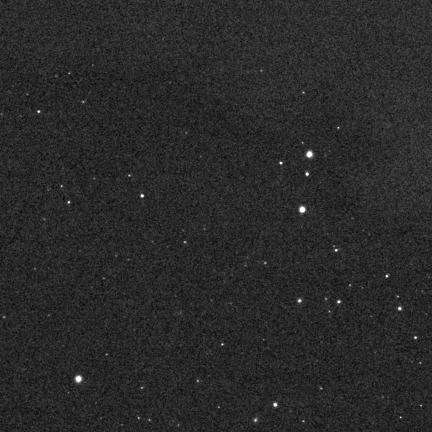blob: (75, 376, 82, 383), (306, 151, 313, 158), (299, 206, 305, 213), (273, 403, 278, 407), (398, 307, 402, 311), (306, 172, 309, 176), (280, 162, 284, 165), (141, 194, 144, 198)
